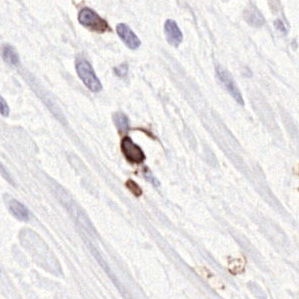Lymphocyte: (119, 135, 148, 165)
